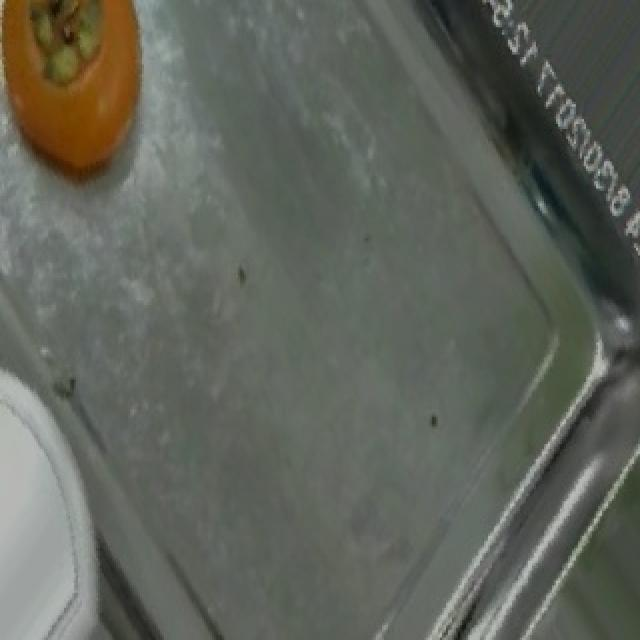Fruit: (0, 0, 174, 198)
